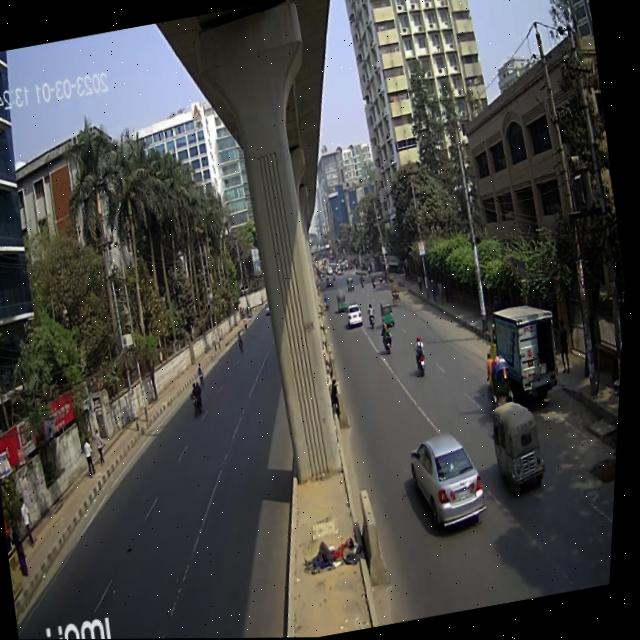cng: (487, 394, 557, 501), (378, 295, 402, 336), (336, 290, 352, 317)
rikshaw: (481, 349, 520, 415)
